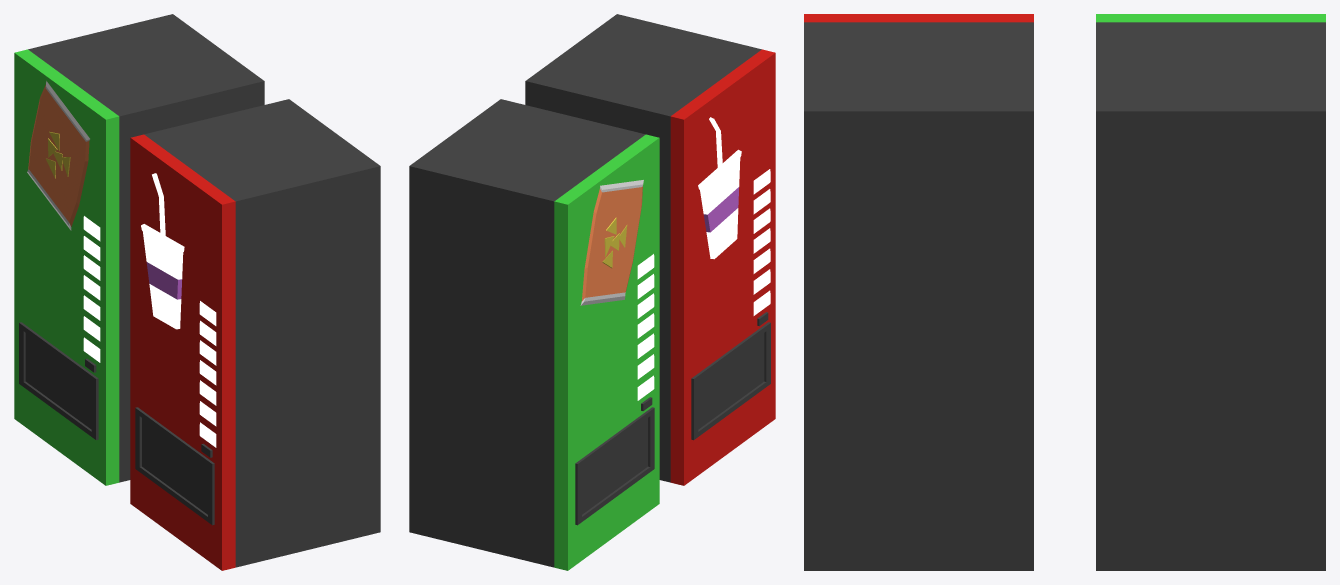
File: maquinas-expendedoras.glb
3 renders of one model, left to right at view 1: azimuth 30°, elevation 25°; view 2: azimuth 150°, elevation 25°; view 3: azimuth 270°, elevation 25°, orthographic. The views are drawn at different scales.
Parts seen in each view (by area): view 1: Drink Vending Machine, Food Vending Machine; view 2: Food Vending Machine, Drink Vending Machine; view 3: Food Vending Machine, Drink Vending Machine.
Boxes of the visible parts, x1,y1,x2,y2 form: Drink Vending Machine: (130, 99, 380, 570); Food Vending Machine: (14, 14, 264, 485); Food Vending Machine: (409, 99, 659, 570); Drink Vending Machine: (525, 14, 775, 485); Food Vending Machine: (1096, 14, 1325, 570); Drink Vending Machine: (804, 14, 1033, 570).
Size of the model in its own units: 12.02 by 25.89 by 26.62.
